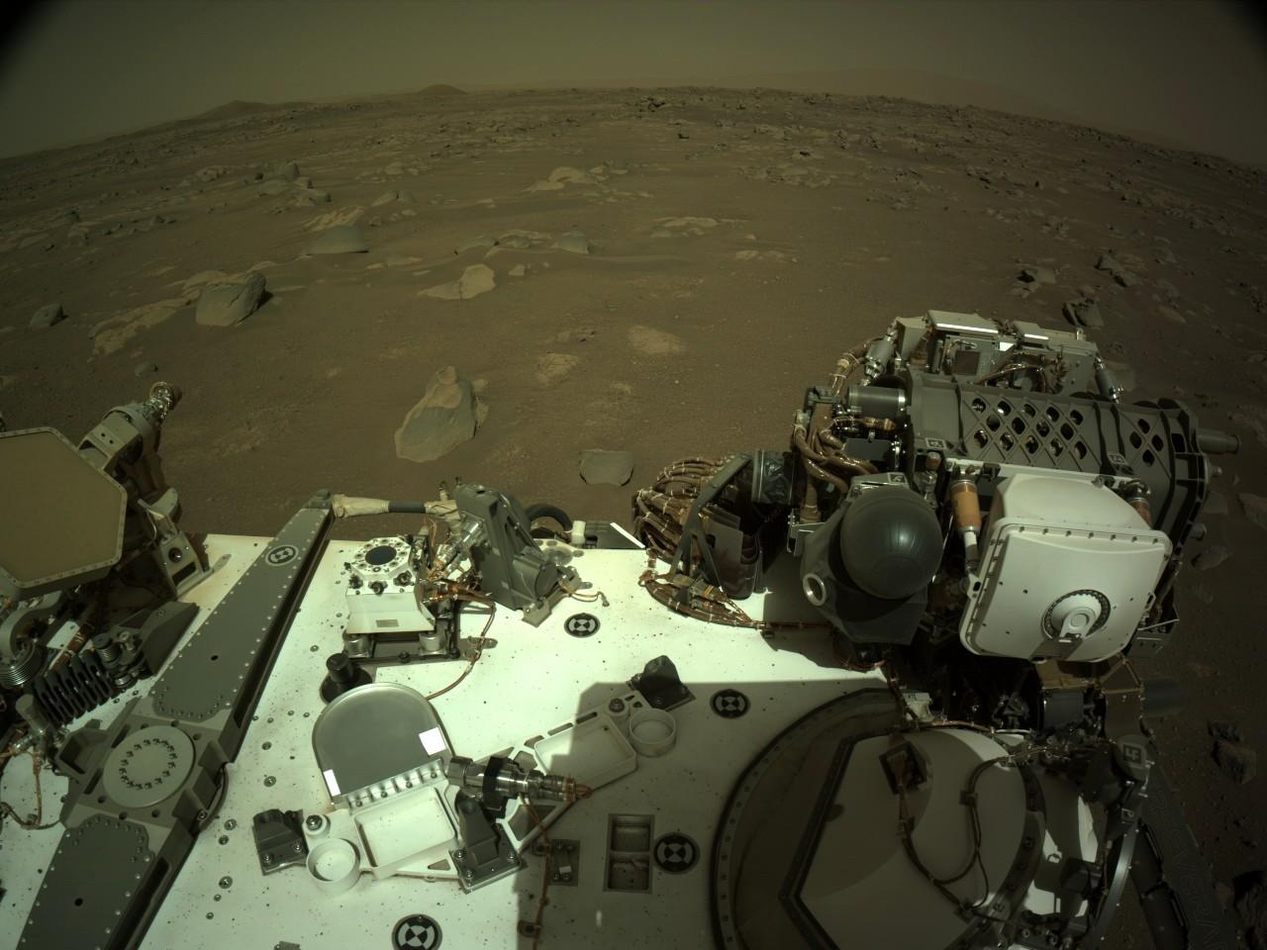bedrock: (674, 87, 1256, 929), (91, 223, 565, 481), (456, 174, 789, 436), (32, 94, 647, 181), (6, 200, 226, 297), (301, 475, 620, 530), (252, 165, 455, 218), (856, 299, 1006, 344), (636, 443, 706, 507), (479, 443, 569, 490), (57, 281, 149, 325), (386, 142, 494, 174), (86, 322, 134, 366), (1223, 257, 1238, 357), (33, 178, 86, 199), (1, 167, 22, 206), (148, 263, 192, 280), (279, 484, 299, 507), (217, 135, 259, 144), (38, 300, 54, 314), (382, 465, 392, 477), (298, 250, 306, 261), (184, 268, 194, 275), (183, 470, 188, 479), (790, 237, 797, 243), (456, 350, 464, 353), (42, 424, 49, 427)
sand: (120, 60, 757, 126), (14, 284, 30, 297)
soil: (692, 315, 893, 455), (1, 299, 126, 446), (166, 469, 299, 542), (523, 489, 612, 510), (928, 291, 992, 301), (621, 509, 643, 537), (396, 484, 433, 498), (1012, 316, 1059, 324), (7, 268, 21, 284), (178, 455, 185, 468), (22, 160, 31, 166), (372, 490, 387, 493), (301, 483, 314, 485)
